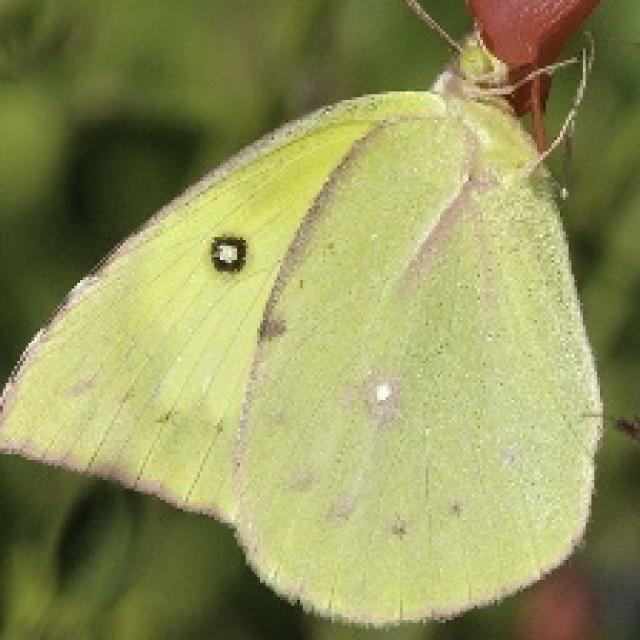butterfly: (0, 0, 606, 629)
